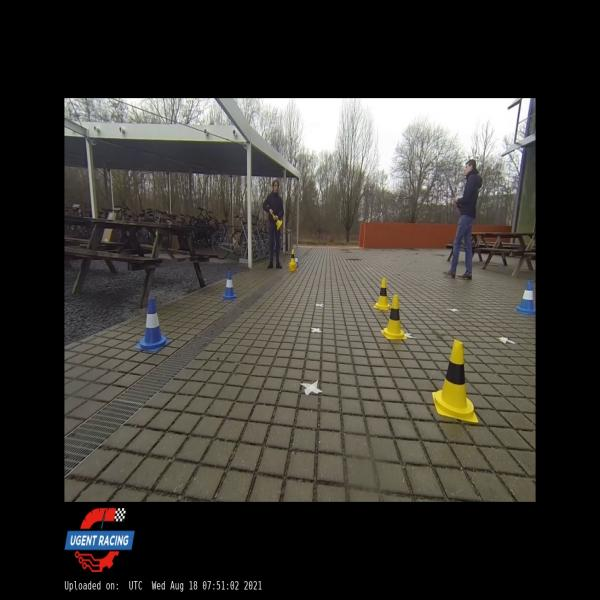blue_cone: (134, 298, 170, 352), (514, 280, 536, 315), (222, 271, 236, 299), (293, 254, 299, 267)
yellow_cone: (432, 340, 479, 423), (381, 295, 406, 339), (373, 278, 392, 310), (272, 214, 282, 230), (288, 249, 296, 264)
